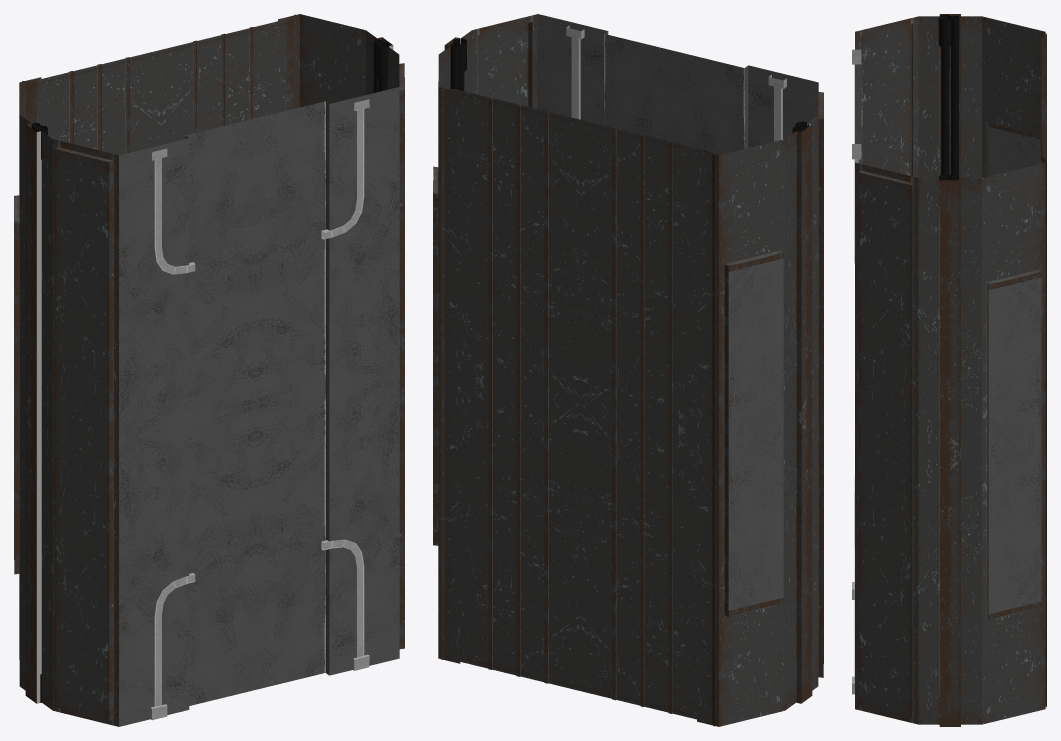
File: Coridor_small_1.FBX
3 renders of one model, left to right at view 1: azimuth 30°, elevation 25°; view 2: azimuth 150°, elevation 25°; view 3: azimuth 270°, elevation 25°, orthographic. The views are drawn at different scales.
Parts seen in each view (by area): view 1: Coridor_small_1; view 2: Coridor_small_1; view 3: Coridor_small_1.
Part boxes in pixels (x1,y1,x2,y2): Coridor_small_1: (14,14,404,726); Coridor_small_1: (433,14,823,726); Coridor_small_1: (852,14,1046,726).
Size of the model in its own units: 6.32 by 9.68 by 3.13.
Materials: 1 (1 with a texture image).
